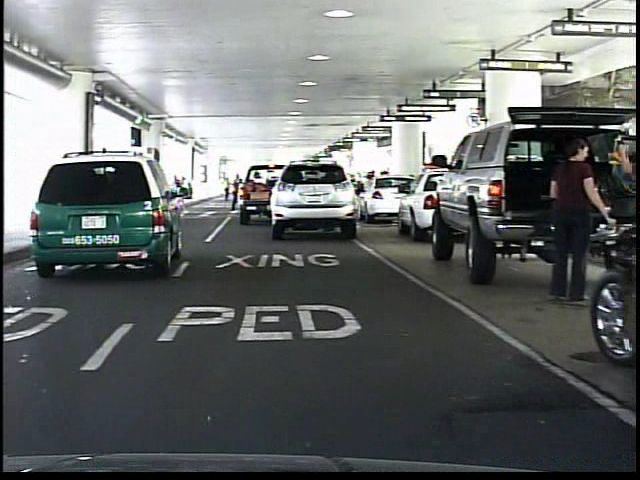person: (534, 135, 601, 309)
